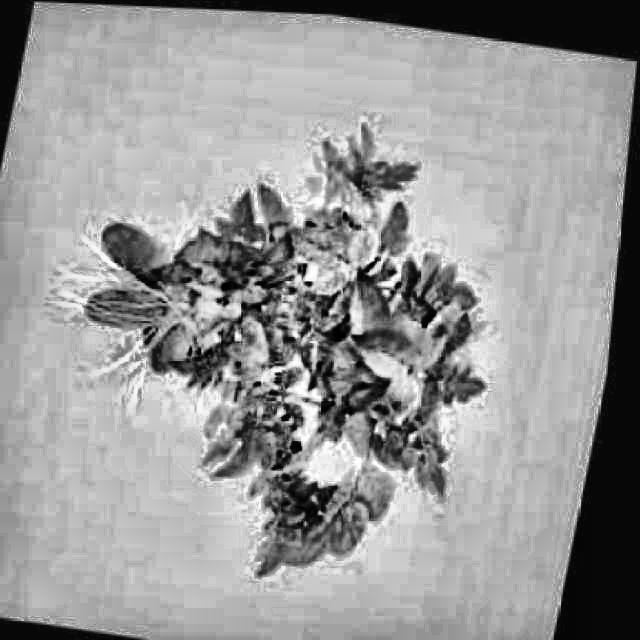plants: (31, 74, 544, 606)
